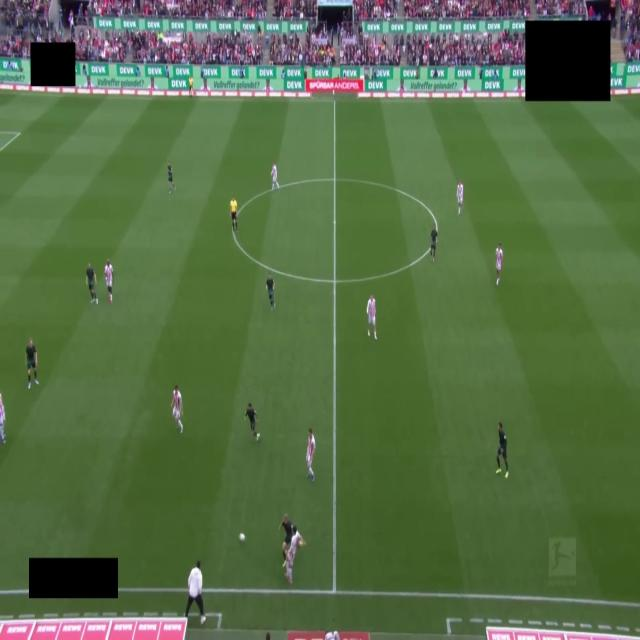ball: (239, 533, 245, 542)
player: (285, 526, 305, 584), (279, 514, 293, 567), (496, 423, 508, 478), (26, 339, 38, 388), (171, 385, 183, 433), (245, 403, 259, 441), (306, 428, 315, 482), (86, 264, 98, 303), (367, 296, 376, 340), (105, 260, 113, 303), (284, 551, 294, 584), (266, 274, 274, 311), (496, 244, 503, 285), (430, 226, 437, 262), (0, 394, 5, 444), (167, 162, 175, 193), (457, 183, 463, 215), (272, 163, 279, 190), (325, 632, 339, 639)
referee: (230, 197, 237, 232)
